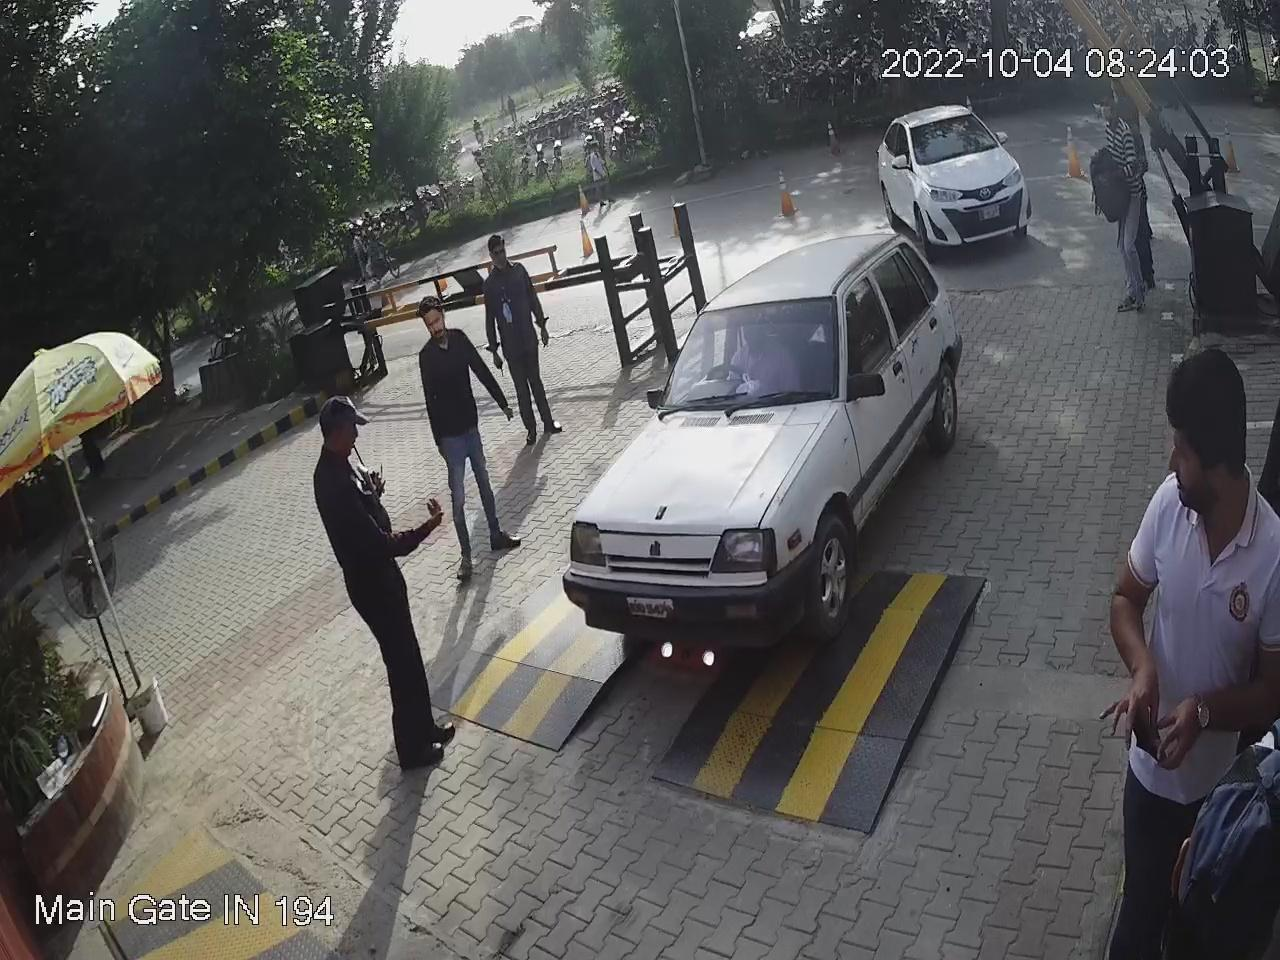windshield: (655, 295, 843, 412)
